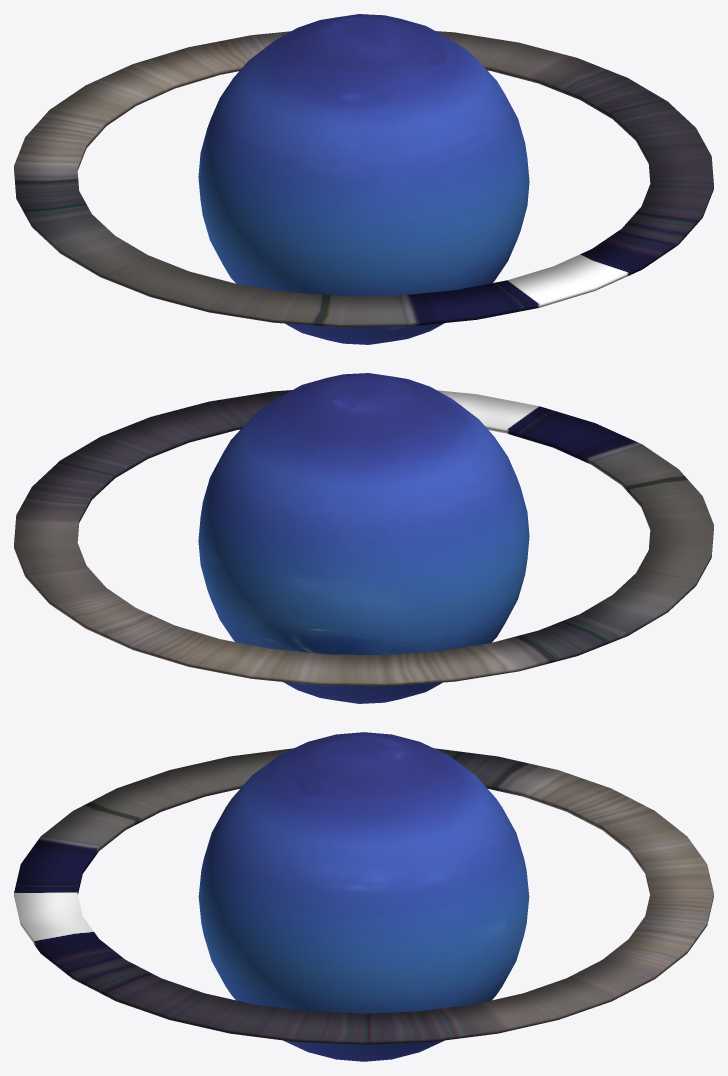
The model's file is neptune.fbx.
The picture shows the model from 3 angles, top to bottom: view 1: azimuth 30°, elevation 25°; view 2: azimuth 150°, elevation 25°; view 3: azimuth 270°, elevation 25°; orthographic projection.
Visible parts, largest first — view 1: neptune, neptune (rings); view 2: neptune, neptune (rings); view 3: neptune, neptune (rings).
Part boxes in pixels (x1,y1,x2,y2): neptune: (198,14,529,344); neptune (rings): (14,31,713,327); neptune: (198,373,529,703); neptune (rings): (14,390,713,686); neptune: (198,732,529,1061); neptune (rings): (14,748,713,1044).
Bounding box in the file's own units: 4.23 × 2 × 4.23.
2 materials, 2 textured.
